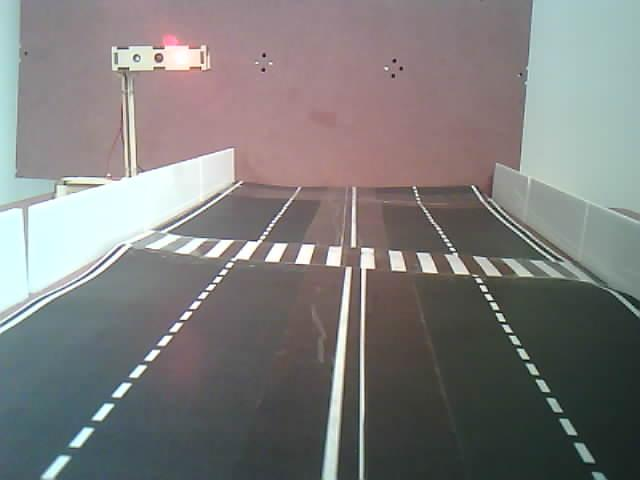crosswalk: (125, 226, 605, 286)
red: (97, 35, 224, 161)
